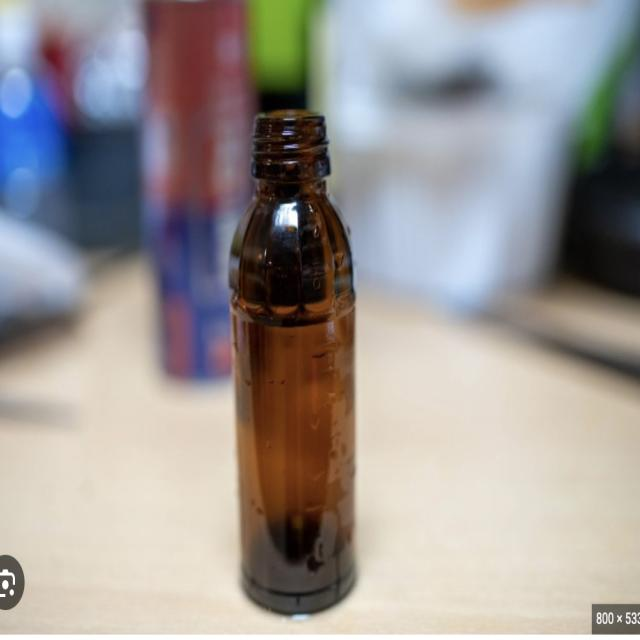recyclable: (212, 81, 382, 633)
